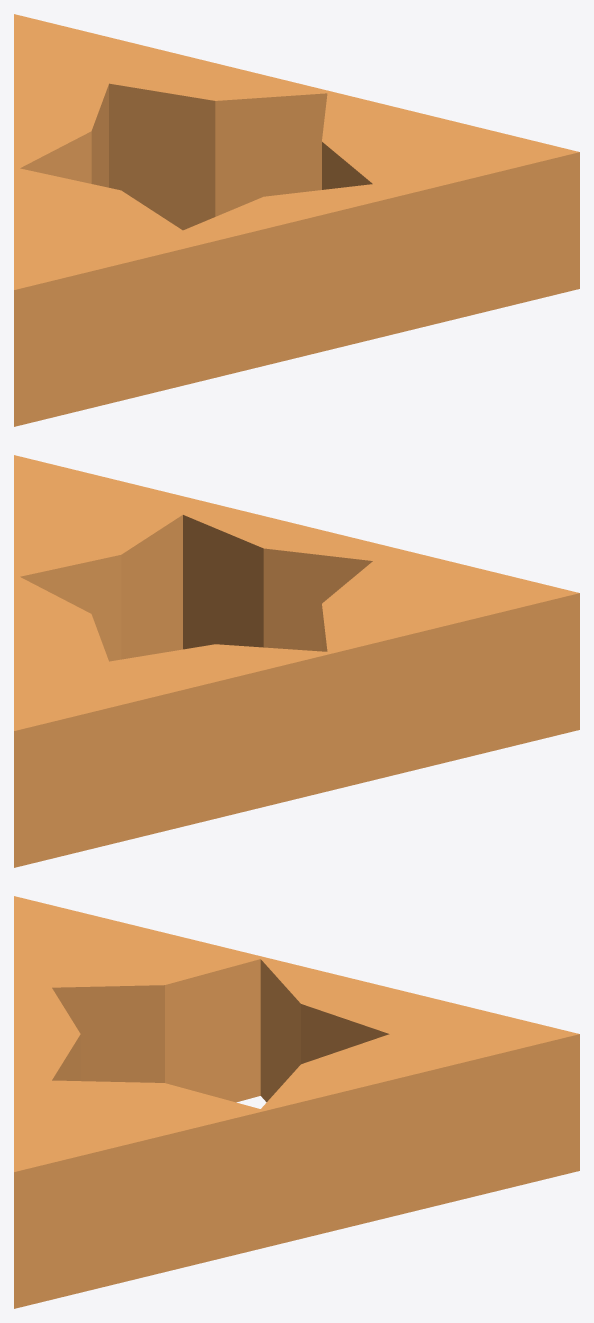
3 renders of one model, top to bottom at view 1: azimuth 30°, elevation 25°; view 2: azimuth 150°, elevation 25°; view 3: azimuth 270°, elevation 25°, orthographic.
Visible parts, largest first — view 1: Mesh1 Difference Model; view 2: Mesh1 Difference Model; view 3: Mesh1 Difference Model.
Part boxes in pixels (x1=…): Mesh1 Difference Model: x1=14, y1=14, x2=579, y2=426; Mesh1 Difference Model: x1=14, y1=455, x2=579, y2=867; Mesh1 Difference Model: x1=14, y1=896, x2=579, y2=1308.
Bounding box in the file's own units: 0.866 × 0.2 × 0.75.
